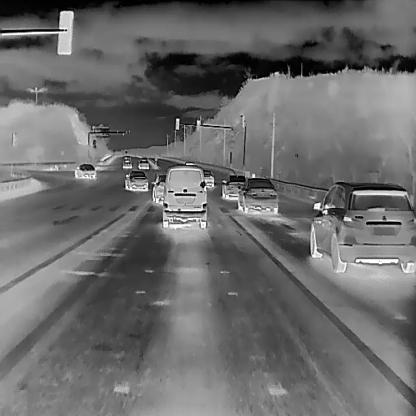car: (310, 180, 416, 272), (162, 164, 207, 228), (237, 177, 277, 212), (221, 174, 246, 200), (124, 169, 148, 192), (150, 170, 166, 204), (73, 162, 95, 178), (201, 168, 214, 188), (136, 156, 149, 169), (121, 153, 131, 169)
